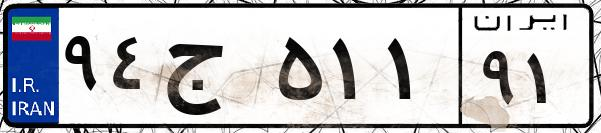1: (385, 28, 445, 110), (330, 28, 385, 110), (525, 38, 570, 115)
4: (110, 28, 158, 98)
5: (270, 28, 330, 110)
9: (57, 26, 110, 100), (475, 38, 525, 113)
ج: (158, 20, 270, 120)
